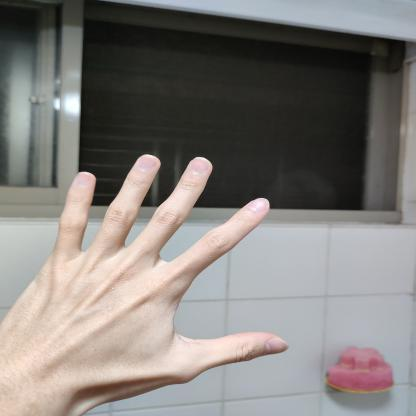bare_hand: (0, 145, 296, 416)
